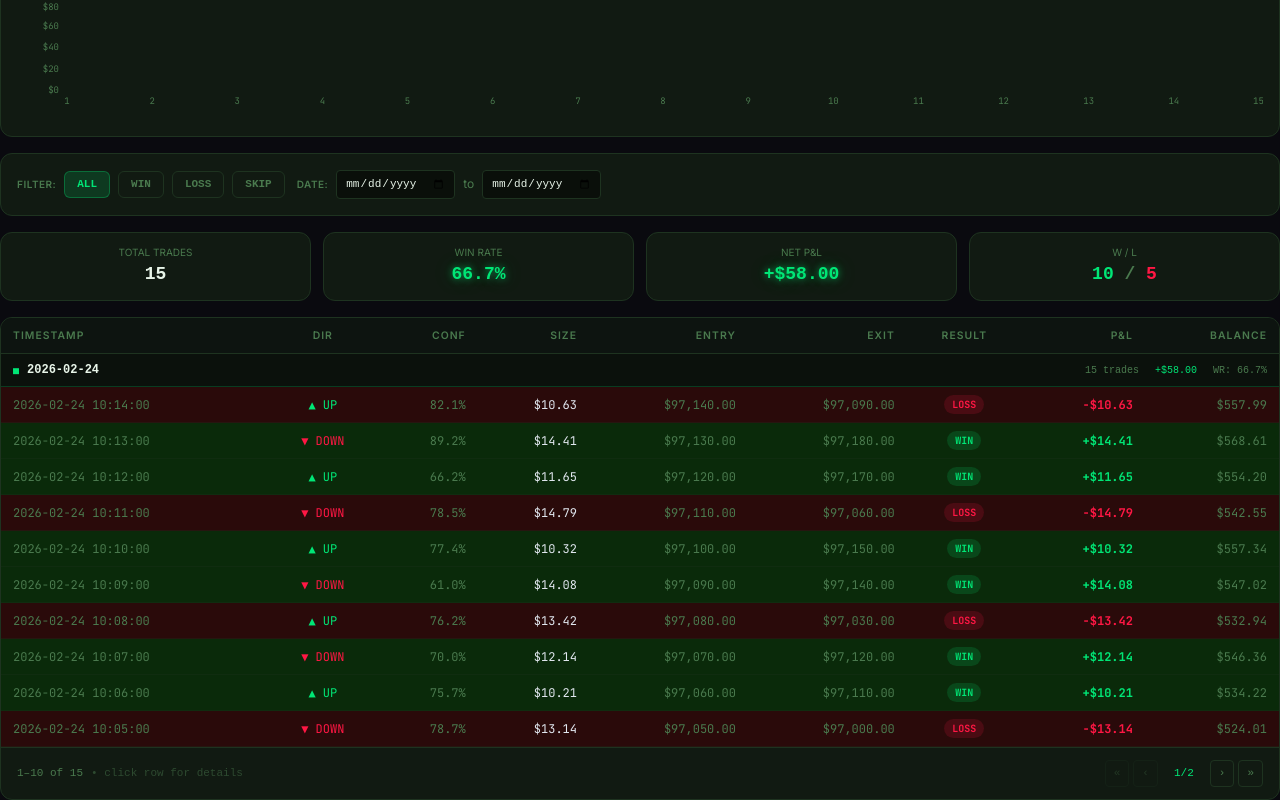
Test: HistoryPage › pagination › navigates to next page
(page scrolled)
Step 1. Click the button "›" → click(1222, 773), box top-left (1210, 760), bottom-right (1234, 787)
(page scrolled)
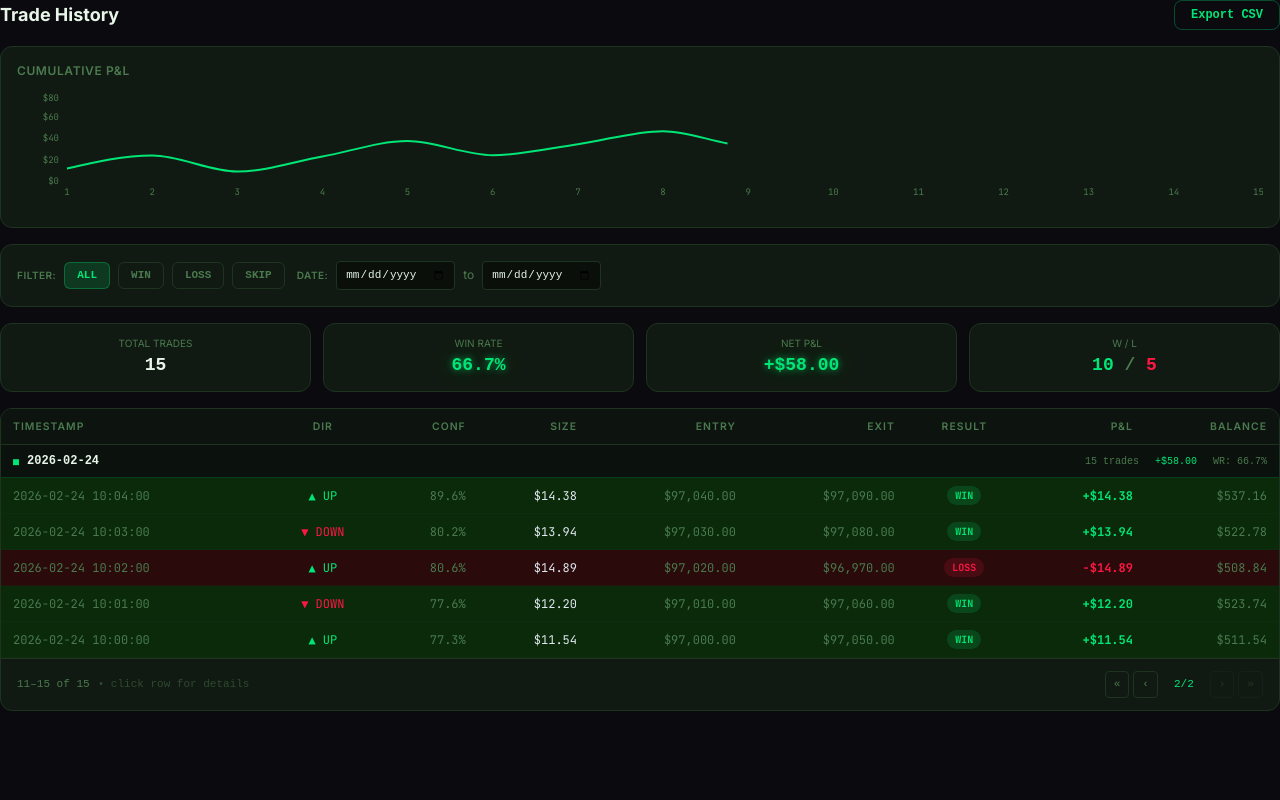
Result: the text "2/2" is shown at top-left (1174, 678), bottom-right (1194, 690)
